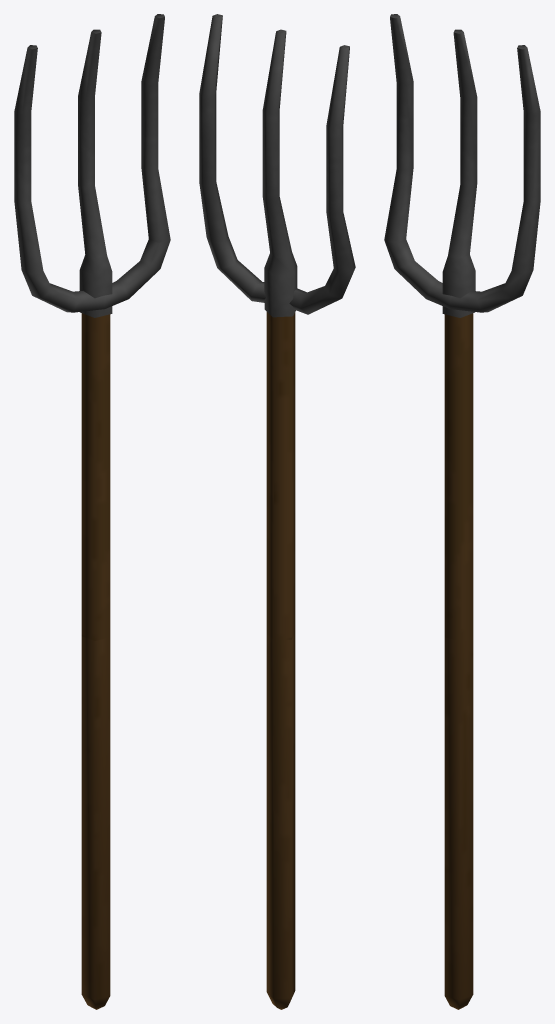
File: Pitchfork1.fbx
The picture shows the model from 3 angles, left to right: view 1: azimuth 30°, elevation 25°; view 2: azimuth 150°, elevation 25°; view 3: azimuth 330°, elevation 25°; orthographic projection.
Parts seen in each view (by area): view 1: Pitchfork1; view 2: Pitchfork1; view 3: Pitchfork1.
Part boxes in pixels (<box>): Pitchfork1: <box>14,14,170,1009</box>; Pitchfork1: <box>199,14,355,1009</box>; Pitchfork1: <box>384,14,540,1009</box>.
Size of the model in its own units: 22 by 140 by 5.95.
Materials: 1 (1 with a texture image).
